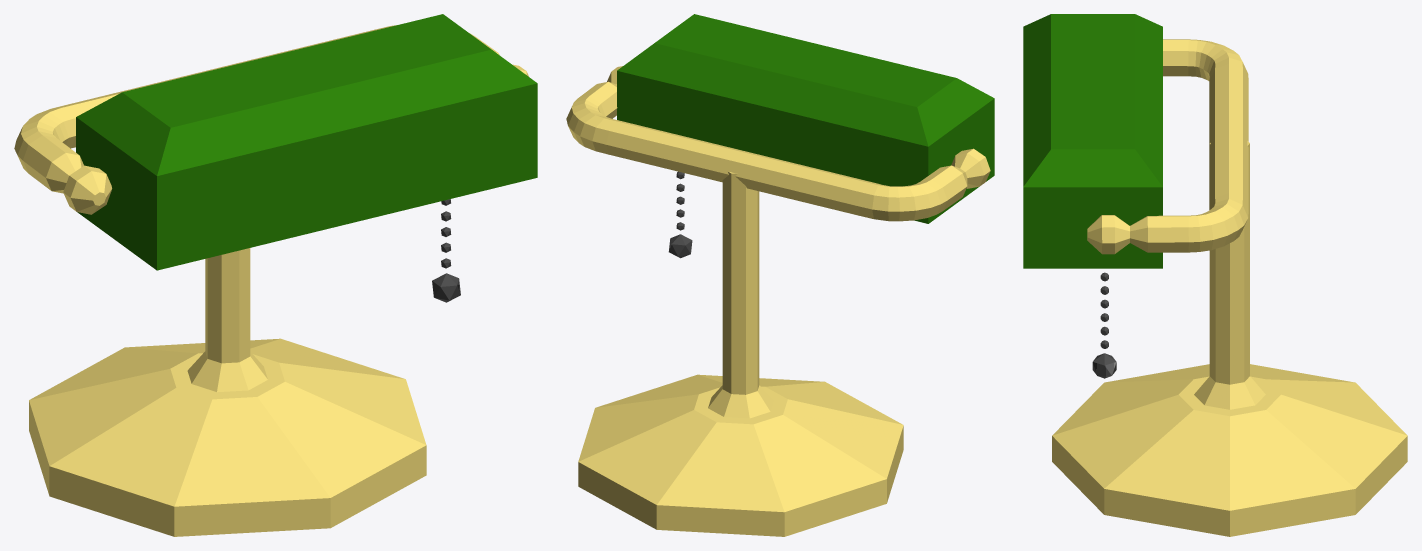
The model's file is DeskLamp.obj.
3 renders of one model, left to right at view 1: azimuth 30°, elevation 25°; view 2: azimuth 150°, elevation 25°; view 3: azimuth 270°, elevation 25°, orthographic. The views are drawn at different scales.
Visible parts, largest first — view 1: DeskLamp_Icosphere.001; view 2: DeskLamp_Icosphere.001; view 3: DeskLamp_Icosphere.001.
Part boxes in pixels (x1,y1,x2,y2): DeskLamp_Icosphere.001: (14, 14, 537, 536); DeskLamp_Icosphere.001: (566, 14, 994, 536); DeskLamp_Icosphere.001: (1023, 14, 1407, 536).
Size of the model in its own units: 0.2924 by 0.2659 by 0.2437.
Materials: 1 (1 with a texture image).
